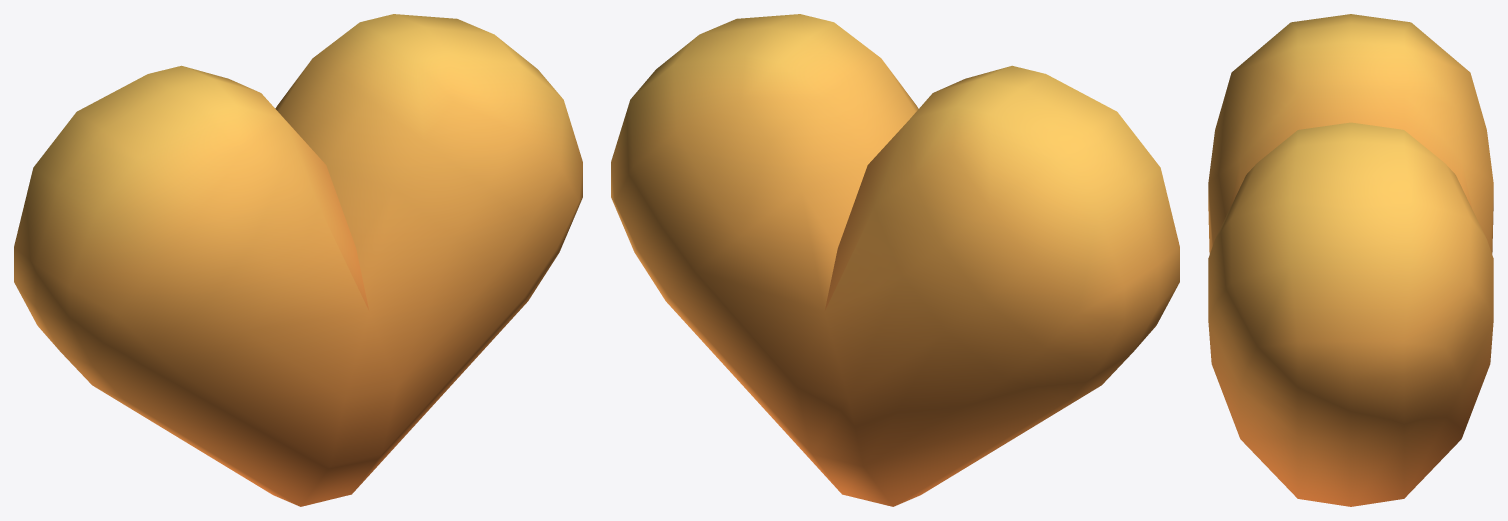
File: kaykit_heart_yellow.glb
3 renders of one model, left to right at view 1: azimuth 30°, elevation 25°; view 2: azimuth 150°, elevation 25°; view 3: azimuth 270°, elevation 25°, orthographic. The views are drawn at different scales.
Visible parts, largest first — view 1: heart_yellow_visual; view 2: heart_yellow_visual; view 3: heart_yellow_visual.
Boxes of the visible parts, box(x1,y1,x2,y2) form: heart_yellow_visual: box(14, 14, 582, 506); heart_yellow_visual: box(611, 14, 1179, 506); heart_yellow_visual: box(1208, 14, 1493, 506).
Size of what is drawn, in the model's own units: 1.08 by 0.8466 by 0.5305.
Materials: 1 (1 with a texture image).
